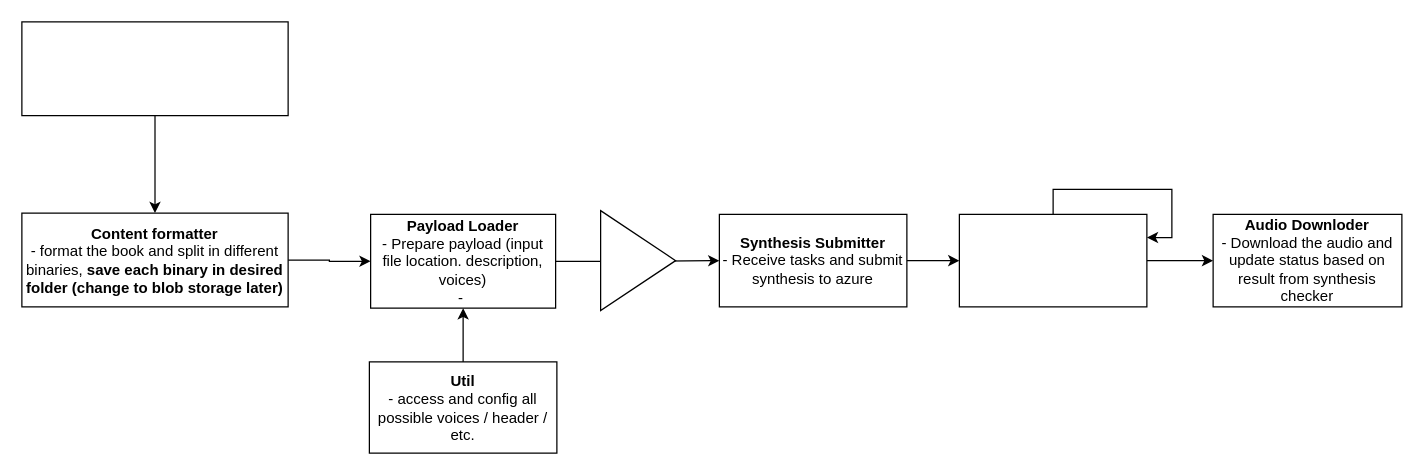
This 1424x475 diagram has some shape labels left out. The centre of each missing label's shape, as x and y in pixels:
"multi-thread" belongs at point (637, 260).
"Online Resource Crawler - crawl online books based on title" belongs at point (154, 68).
"Synthesis Checker - check systhesis status" belongs at point (1052, 260).
